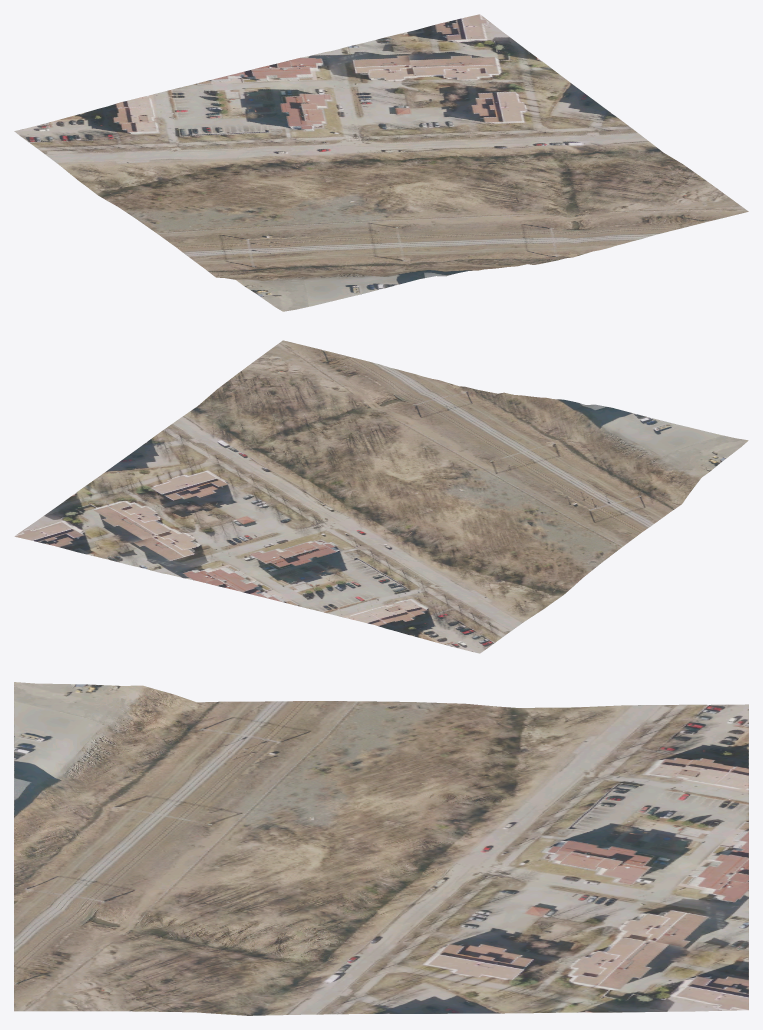
The model's file is CM_Terrain_24491687_6819794.fbx.
3 renders of one model, top to bottom at view 1: azimuth 30°, elevation 25°; view 2: azimuth 150°, elevation 25°; view 3: azimuth 270°, elevation 25°, orthographic. The views are drawn at different scales.
Visible parts, largest first — view 1: CM_Terrain_24491687_6819794_LOD0; view 2: CM_Terrain_24491687_6819794_LOD0; view 3: CM_Terrain_24491687_6819794_LOD0.
Part boxes in pixels (left/top/right/bottom): CM_Terrain_24491687_6819794_LOD0: left=14, top=14, right=748, bottom=311; CM_Terrain_24491687_6819794_LOD0: left=14, top=340, right=748, bottom=653; CM_Terrain_24491687_6819794_LOD0: left=14, top=682, right=748, bottom=1015.
Size of what is drawn, in the model's own units: 205 by 8.21 by 205.
